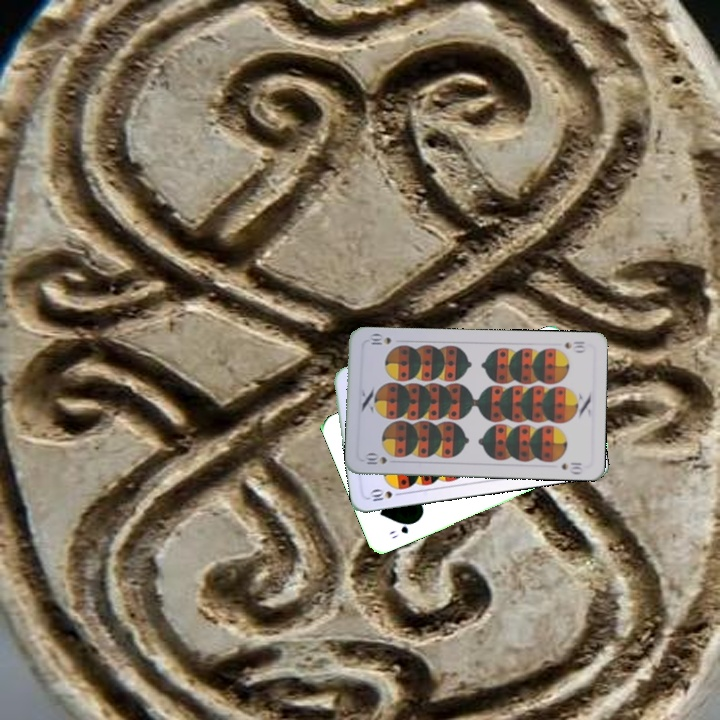GO: (385, 517, 419, 541)
S10: (365, 486, 406, 504), (561, 337, 588, 355), (361, 451, 389, 467)
